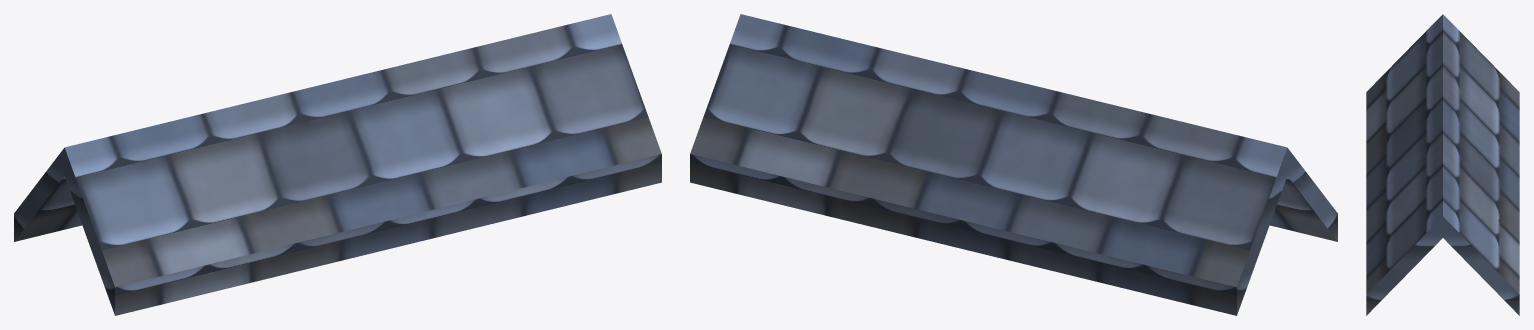
The model's file is roof_slate_ridge_2m.glb.
3 views of the same model, side by side, from view 1: azimuth 30°, elevation 25°; view 2: azimuth 150°, elevation 25°; view 3: azimuth 270°, elevation 25° (orthographic). The views are drawn at different scales.
Visible parts, largest first — view 1: roof_slate_ridge_2m; view 2: roof_slate_ridge_2m; view 3: roof_slate_ridge_2m.
Boxes of the visible parts, bbox=[...] form: roof_slate_ridge_2m: bbox=[14, 14, 661, 315]; roof_slate_ridge_2m: bbox=[690, 14, 1337, 315]; roof_slate_ridge_2m: bbox=[1366, 14, 1519, 315].
Size of the model in its own units: 2 by 0.46 by 0.64.
Materials: 1 (1 with a texture image).
